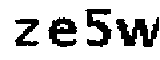5: (82, 6, 113, 49)
e: (48, 14, 79, 48)
w: (115, 14, 160, 48)
z: (14, 16, 41, 49)
